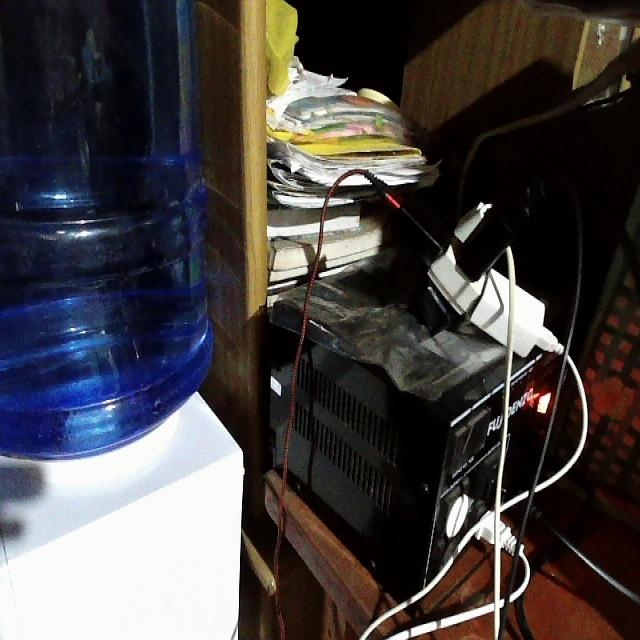-: (379, 180, 567, 356)
